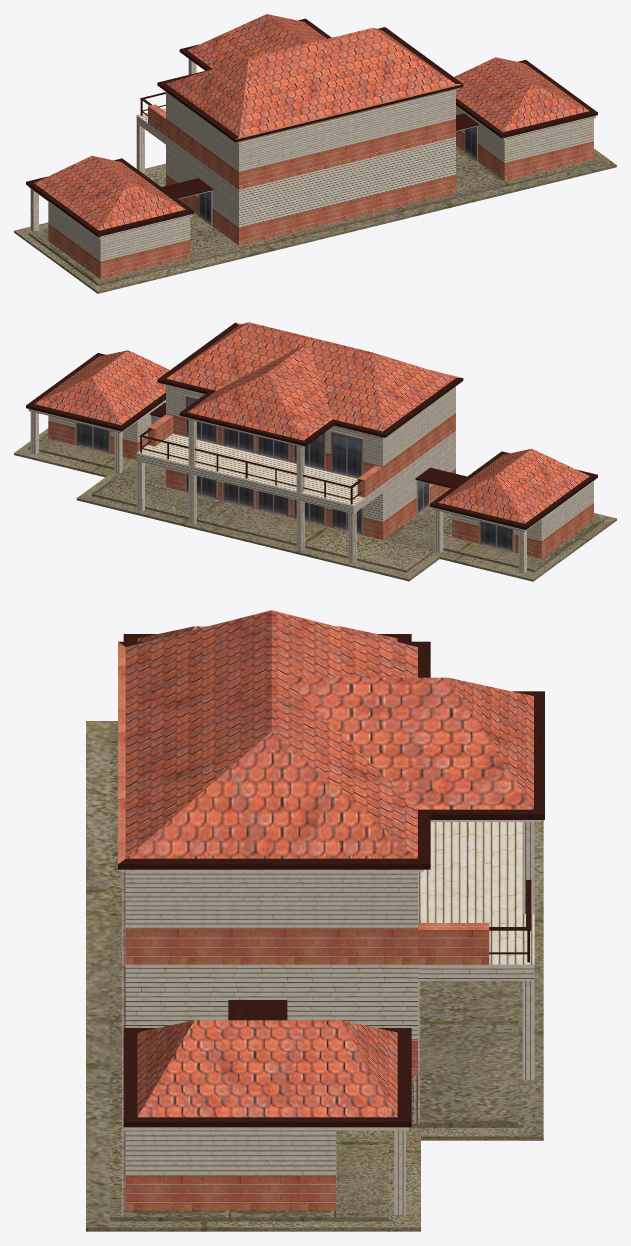
File: town_house_b__1__town_house_ab_0.fbx
3 renders of one model, top to bottom at view 1: azimuth 30°, elevation 25°; view 2: azimuth 150°, elevation 25°; view 3: azimuth 270°, elevation 25°, orthographic. The views are drawn at different scales.
Parts seen in each view (by area): view 1: town_house_b__1__town_house_ab_0; view 2: town_house_b__1__town_house_ab_0; view 3: town_house_b__1__town_house_ab_0.
Boxes of the visible parts, box(x1,y1,x2,y2) form: town_house_b__1__town_house_ab_0: box(14, 14, 616, 293); town_house_b__1__town_house_ab_0: box(14, 322, 616, 581); town_house_b__1__town_house_ab_0: box(86, 610, 544, 1231).
Size of the model in its own units: 4556 by 1289 by 1744.
